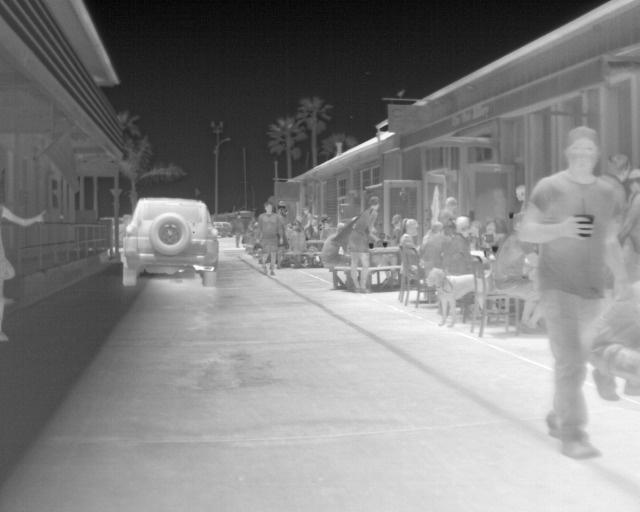bicycle: (118, 194, 218, 288), (213, 220, 232, 238)
empty: (522, 125, 626, 462), (0, 198, 50, 343), (492, 214, 542, 330), (347, 196, 383, 290), (441, 217, 486, 280), (253, 198, 285, 274), (395, 218, 425, 265), (421, 219, 450, 266), (318, 224, 348, 264), (435, 194, 459, 234), (229, 210, 247, 247), (286, 223, 307, 254), (301, 205, 315, 229)
